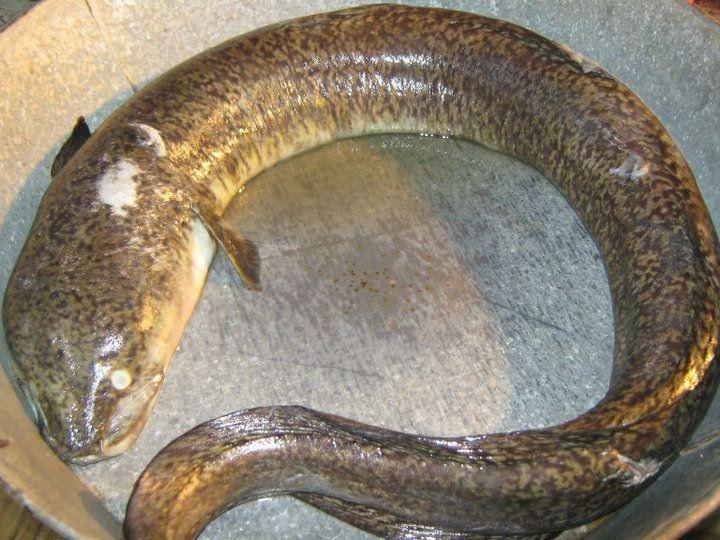Freshwater Eel: (5, 0, 720, 540)
